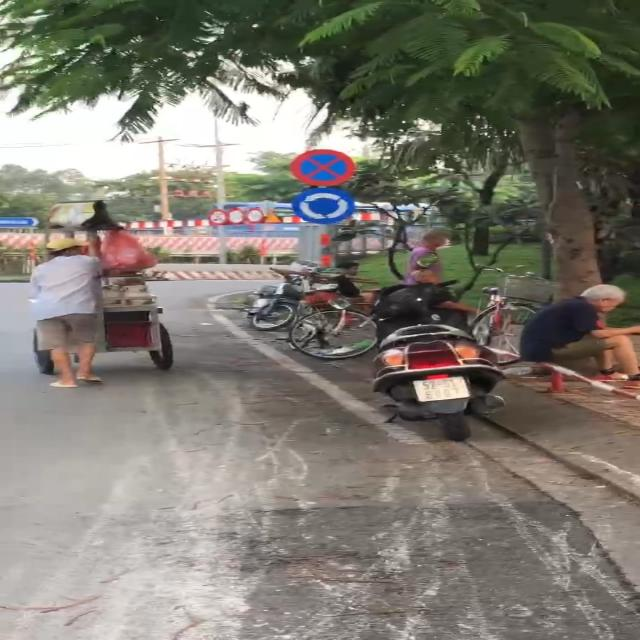Bien bao cam dung xe va do xe: (284, 146, 356, 185)
Bien bao noi giao nhau chay theo vong xuyen: (291, 187, 354, 223)
